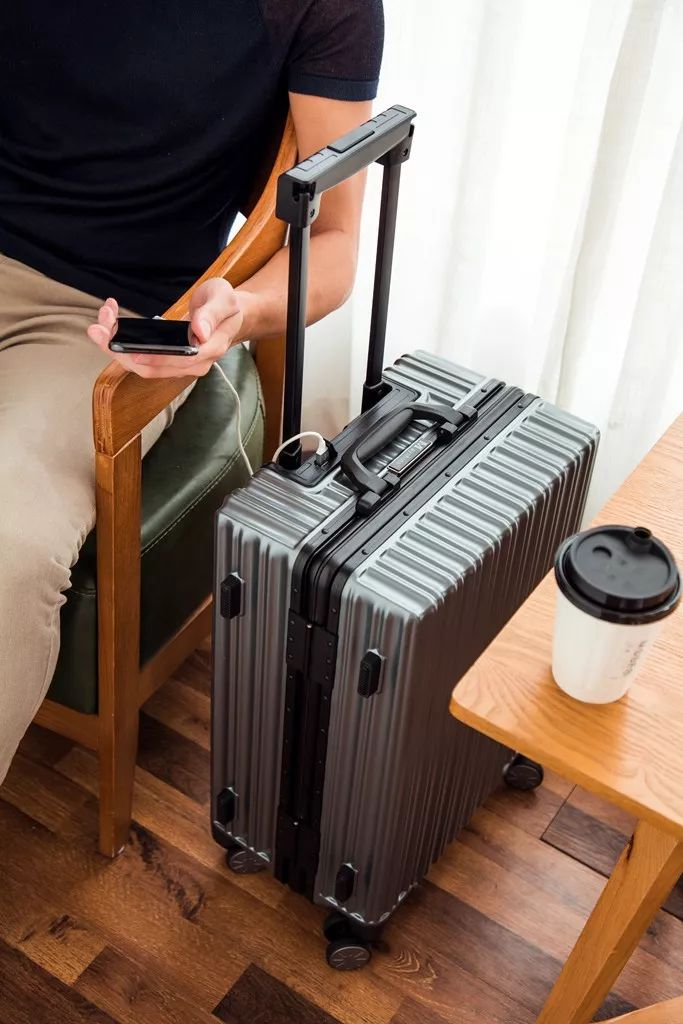box: (211, 347, 599, 923)
handle: (340, 403, 478, 516)
wheel: (323, 911, 372, 971), (503, 754, 542, 791), (222, 844, 264, 872)
